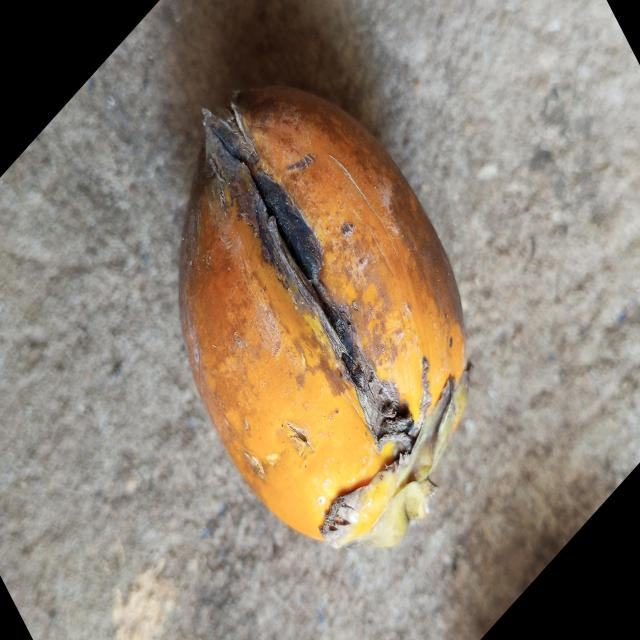damaged: (178, 86, 468, 549)
